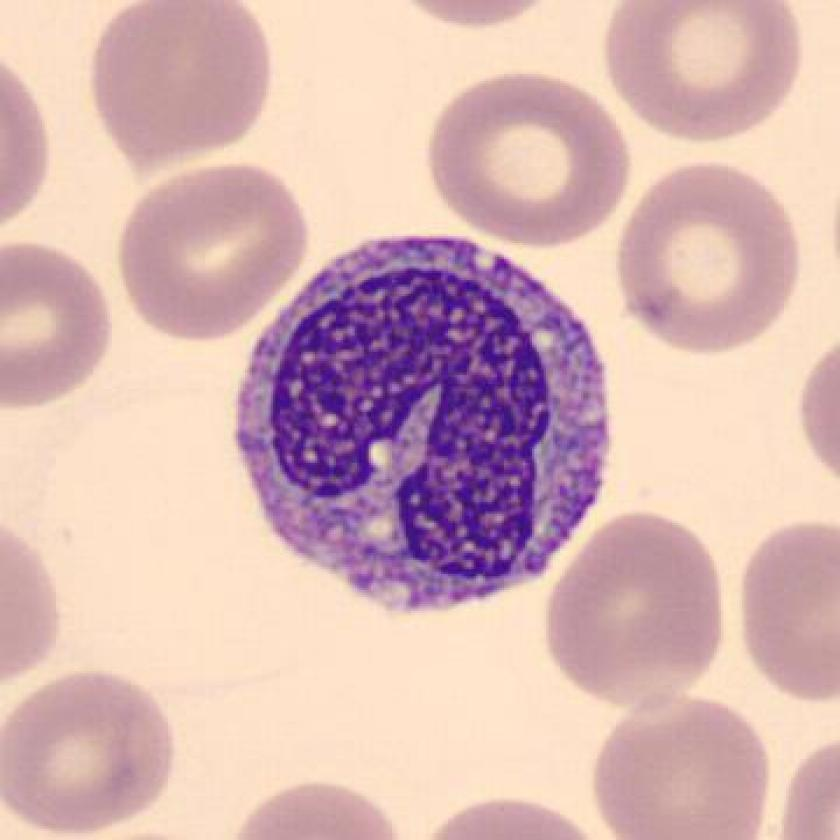monocyte: (221, 212, 641, 635)
